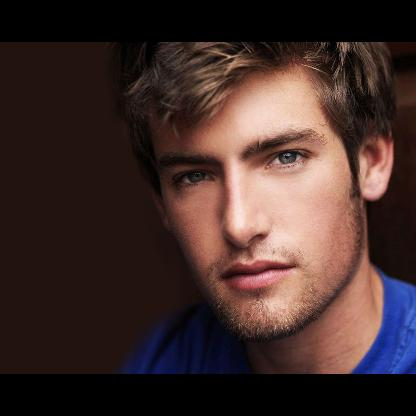Male: (148, 60, 392, 334)
